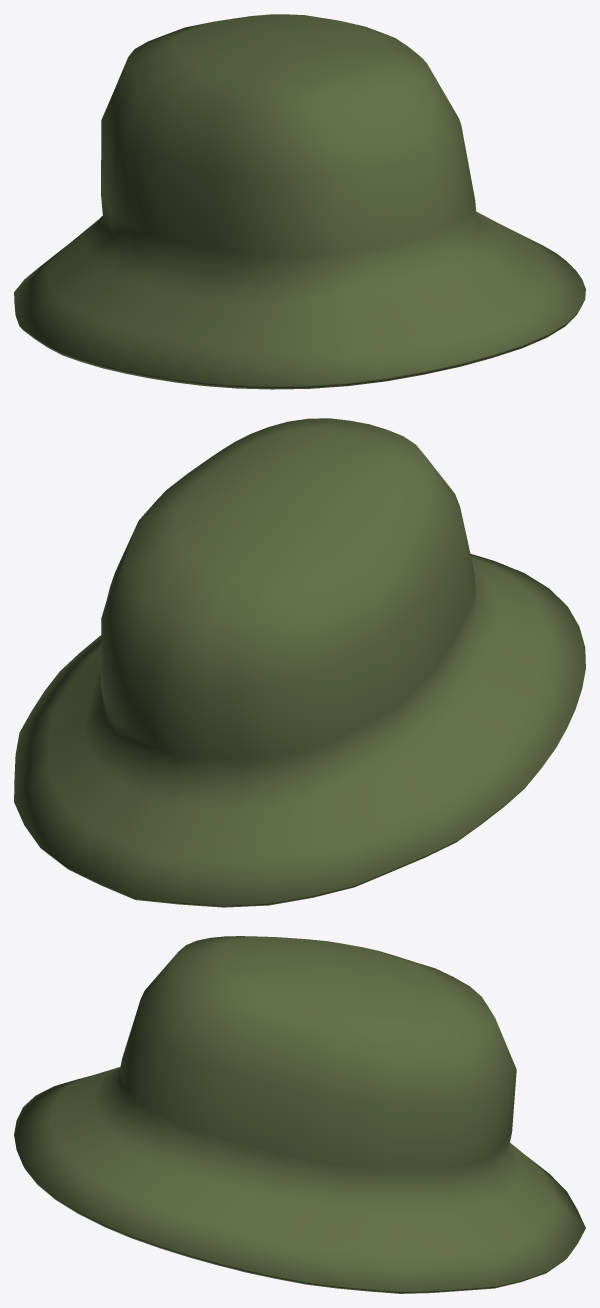
File: bucket_hat.glb
3 renders of one model, top to bottom at view 1: azimuth 30°, elevation 25°; view 2: azimuth 150°, elevation 25°; view 3: azimuth 270°, elevation 25°, orthographic. The views are drawn at different scales.
Visible parts, largest first — view 1: bucket_hat; view 2: bucket_hat; view 3: bucket_hat.
Part boxes in pixels (box(x1,y1,x2,y2)): bucket_hat: box(14, 14, 585, 389); bucket_hat: box(14, 418, 585, 907); bucket_hat: box(14, 936, 585, 1293).
Size of the model in its own units: 0.2777 by 0.1782 by 0.3374.
